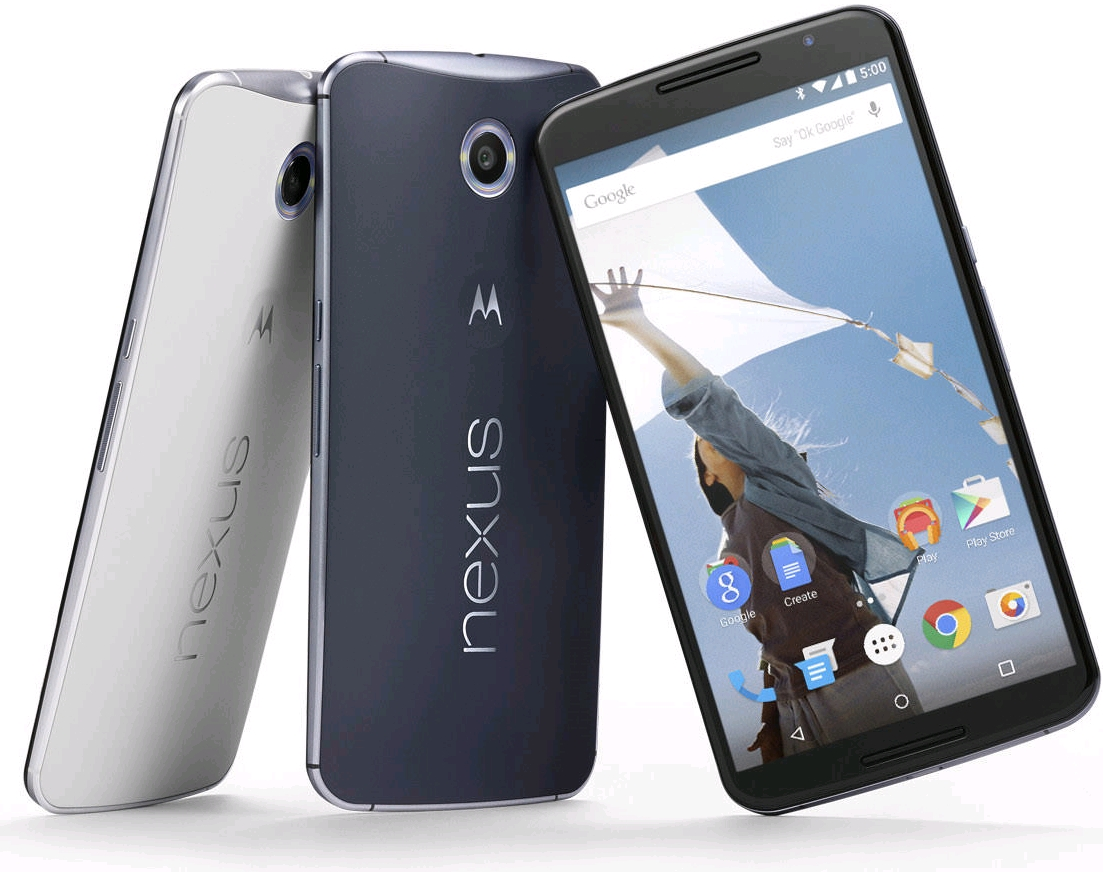smartphone: (535, 4, 1102, 819), (306, 51, 608, 812), (23, 69, 319, 815)
